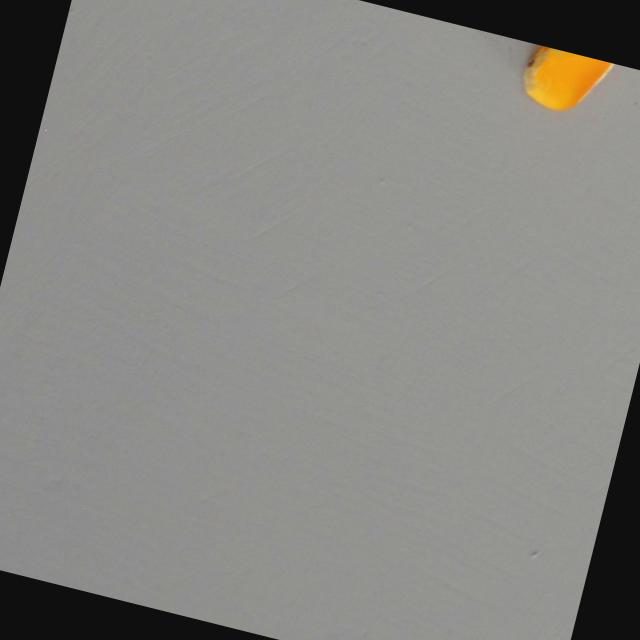pelicula: (516, 43, 617, 122)
